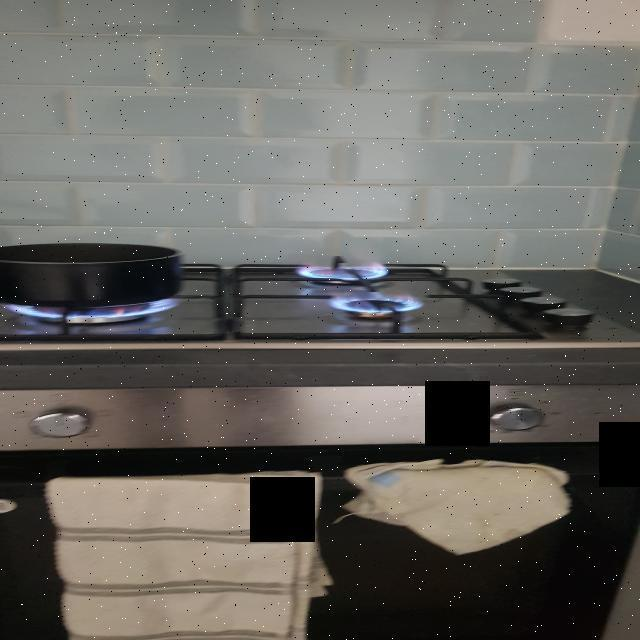Flame: (9, 298, 186, 322), (298, 263, 412, 284), (330, 295, 422, 315)
Pan: (0, 247, 186, 305)
